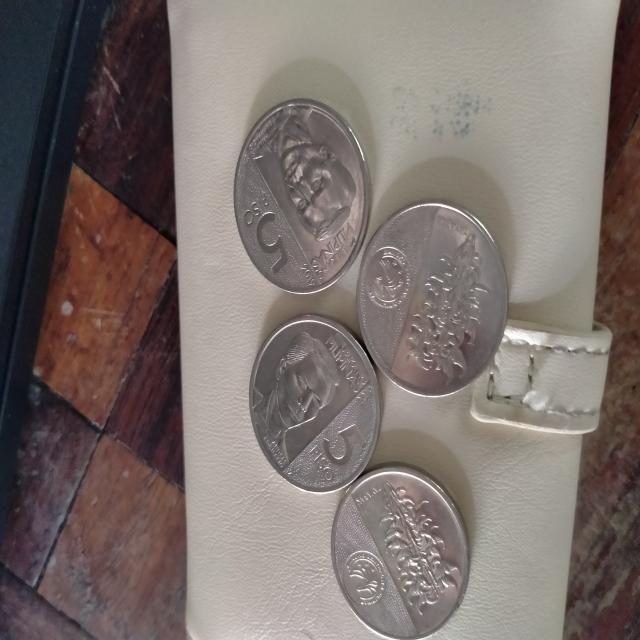5_New_Back: (405, 214, 494, 386), (374, 480, 464, 628)
5_New_Front: (307, 406, 375, 500), (239, 188, 296, 282)
